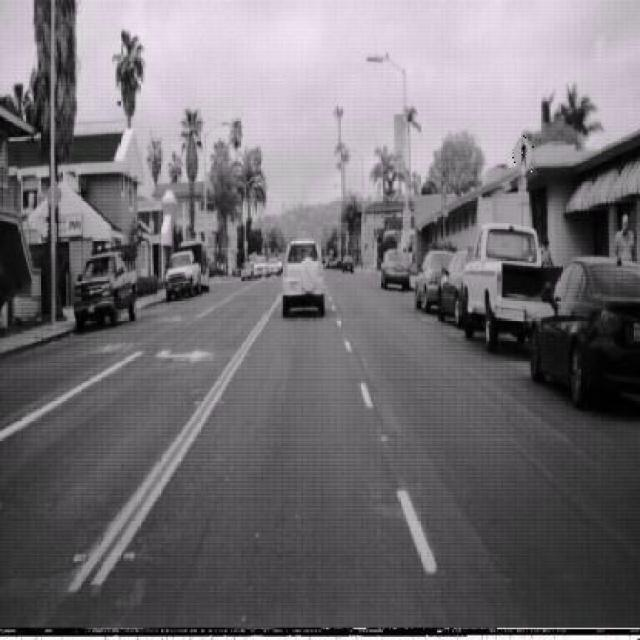pedestrianCrossing: (511, 129, 535, 176)
